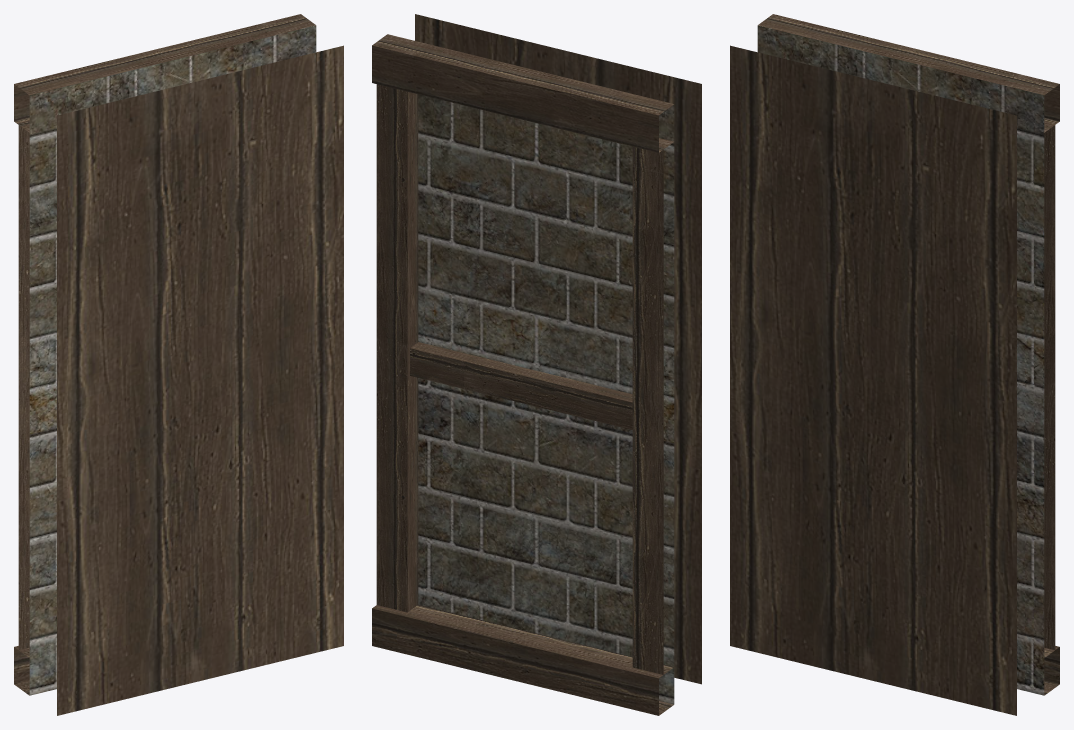
Rendered from ARC1010238.fbx.
3 renders of one model, left to right at view 1: azimuth 30°, elevation 25°; view 2: azimuth 150°, elevation 25°; view 3: azimuth 330°, elevation 25°, orthographic.
Visible parts, largest first — view 1: smARC1010238; view 2: smARC1010238; view 3: smARC1010238.
Boxes of the visible parts, <box> form: smARC1010238: <box>14,14,343,715</box>; smARC1010238: <box>372,14,701,715</box>; smARC1010238: <box>730,14,1059,715</box>.
Size of the model in its own units: 134 by 268 by 34.9.
Materials: 1 (1 with a texture image).
